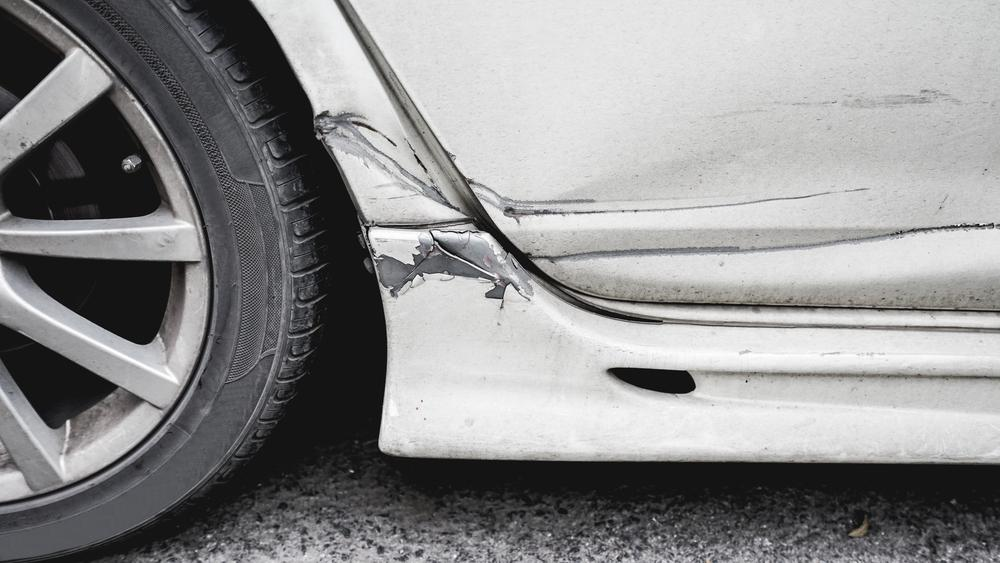crack: (404, 228, 500, 279)
scratch: (465, 177, 1000, 270), (315, 104, 467, 231), (365, 230, 535, 311)
